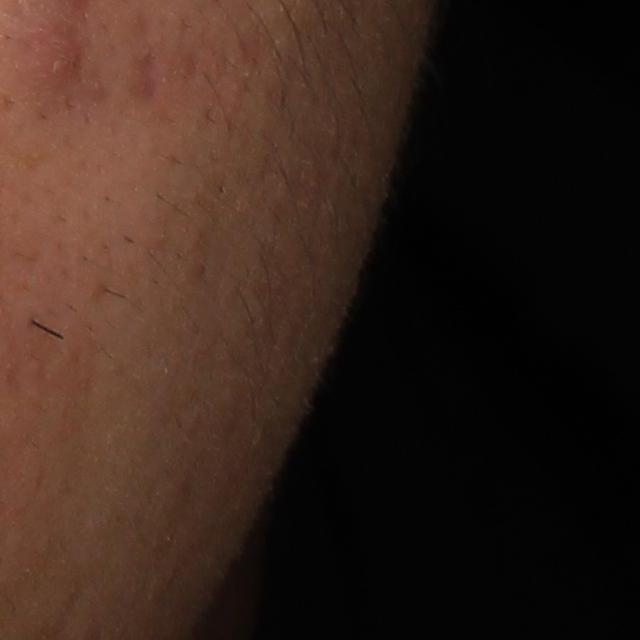atrophic_scar: (122, 52, 166, 104)
papule: (19, 23, 90, 93)
